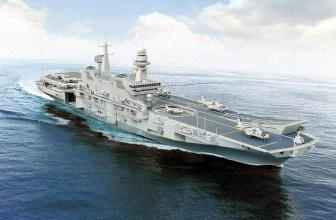warship: (33, 42, 321, 168)
